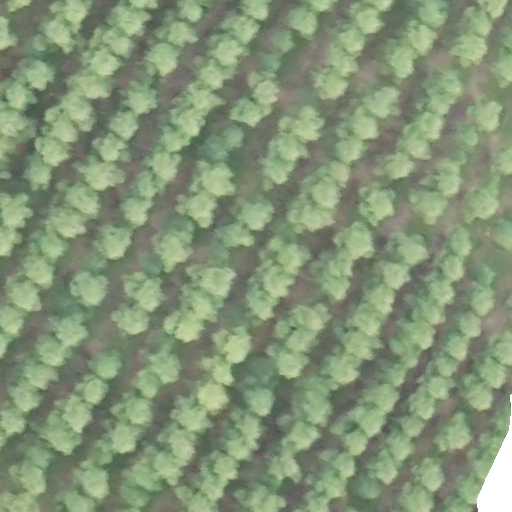eucalipto: (155, 218, 196, 266), (123, 273, 167, 311), (40, 414, 80, 455), (92, 224, 134, 263), (17, 446, 49, 495), (359, 184, 397, 225), (388, 230, 429, 268), (237, 193, 274, 233), (196, 159, 234, 197), (63, 179, 100, 218), (69, 271, 108, 308), (337, 222, 376, 259), (319, 257, 352, 300), (73, 462, 111, 499), (77, 161, 125, 190), (282, 3, 319, 40), (49, 203, 87, 239), (5, 274, 41, 312), (56, 395, 92, 433), (310, 64, 348, 100), (111, 303, 152, 336), (20, 251, 55, 289), (165, 308, 203, 343), (120, 81, 159, 115), (384, 41, 418, 80), (452, 33, 487, 70), (426, 68, 461, 105), (177, 395, 210, 434), (411, 190, 450, 223), (64, 91, 96, 131), (197, 262, 233, 297), (34, 135, 71, 169), (216, 326, 250, 363), (361, 280, 398, 314), (220, 219, 258, 252), (166, 425, 199, 463), (469, 97, 504, 132), (46, 106, 78, 144), (366, 85, 400, 120), (283, 420, 318, 454), (326, 42, 358, 79), (19, 55, 53, 89), (196, 380, 230, 414), (145, 45, 180, 78), (325, 351, 361, 383), (90, 134, 129, 163), (147, 146, 180, 180), (54, 312, 88, 345), (185, 194, 218, 228), (275, 240, 308, 274), (245, 287, 278, 321), (119, 195, 154, 227), (299, 204, 334, 236), (378, 258, 410, 293), (76, 68, 112, 99), (199, 60, 235, 91), (187, 284, 217, 321), (175, 99, 204, 137), (159, 18, 198, 46), (226, 13, 259, 46), (348, 109, 381, 142), (25, 358, 57, 392), (120, 394, 154, 426), (464, 189, 499, 220), (304, 389, 333, 426), (441, 414, 469, 452), (210, 33, 243, 65), (383, 151, 416, 183), (113, 3, 147, 34), (106, 110, 140, 141), (294, 302, 328, 333), (346, 327, 377, 361), (269, 452, 300, 486), (406, 20, 436, 55), (86, 47, 123, 75), (434, 159, 462, 196), (9, 380, 41, 412), (294, 103, 325, 136), (24, 156, 54, 190), (38, 335, 72, 365), (402, 130, 432, 164), (369, 381, 399, 415), (1, 110, 30, 145), (111, 421, 142, 453), (351, 305, 382, 337), (45, 19, 75, 52), (88, 351, 122, 380), (462, 5, 493, 36), (37, 229, 69, 259), (159, 122, 191, 152), (76, 375, 109, 404), (275, 130, 304, 163), (311, 176, 340, 209), (466, 380, 493, 415), (155, 451, 186, 481), (415, 297, 446, 327), (278, 347, 307, 379), (478, 358, 507, 390), (353, 8, 383, 38), (336, 26, 366, 56), (335, 136, 365, 166), (264, 266, 294, 296), (445, 226, 475, 256), (404, 319, 435, 348), (5, 82, 33, 114), (247, 383, 275, 415), (456, 310, 484, 342), (1, 196, 30, 226), (208, 361, 239, 389), (416, 109, 443, 141), (54, 491, 95, 512), (414, 1, 447, 27), (355, 408, 384, 437), (103, 30, 133, 58), (250, 80, 280, 108), (153, 352, 181, 382), (405, 484, 435, 512), (325, 158, 352, 189), (56, 1, 88, 27), (189, 82, 219, 109), (199, 473, 226, 503), (369, 457, 399, 484), (324, 454, 355, 480), (422, 460, 445, 495), (227, 435, 257, 461), (468, 287, 494, 317), (1, 403, 26, 434), (131, 170, 158, 198), (1, 303, 23, 337), (493, 48, 512, 87), (431, 278, 458, 305), (490, 220, 512, 253), (267, 28, 293, 54), (236, 412, 262, 438), (383, 361, 408, 388), (357, 476, 384, 500), (442, 253, 465, 281), (238, 1, 270, 21), (137, 371, 161, 397), (434, 355, 460, 379), (216, 454, 239, 481), (491, 148, 512, 177), (493, 335, 512, 367), (222, 124, 245, 150), (446, 335, 469, 361), (1, 225, 19, 258), (429, 376, 453, 400), (456, 121, 480, 145), (344, 431, 367, 456), (389, 435, 411, 461), (260, 51, 283, 75), (176, 1, 201, 23), (425, 94, 450, 116), (415, 398, 438, 421), (186, 496, 219, 512), (402, 416, 424, 437), (475, 262, 493, 286)
